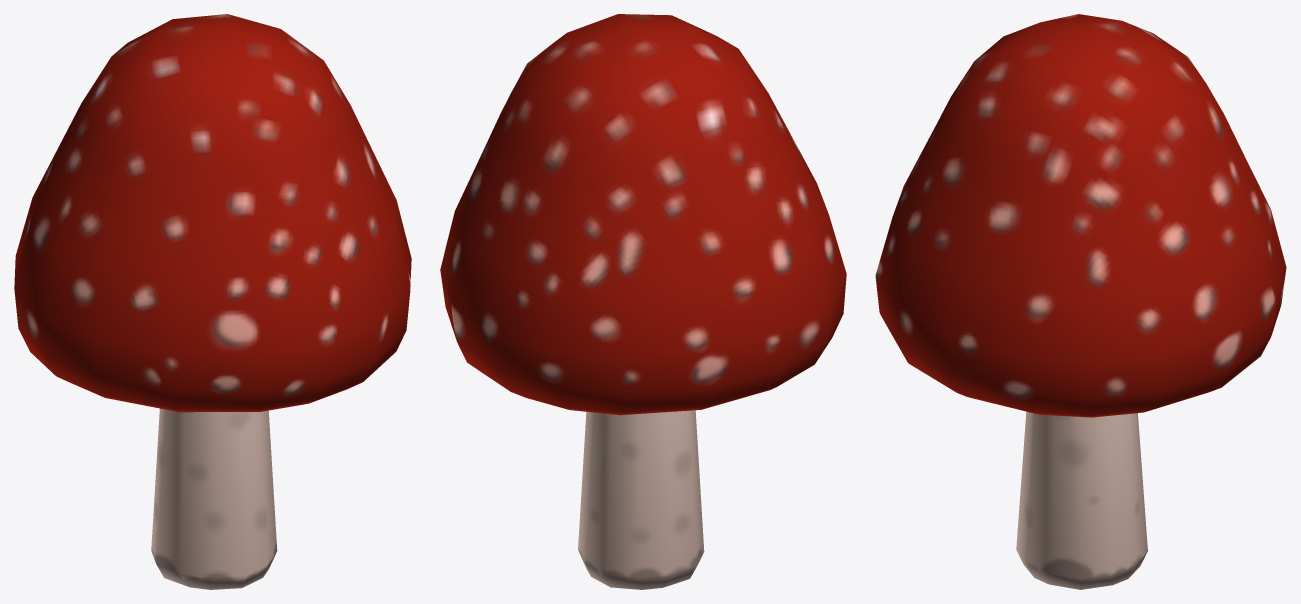
The model's file is Regular Mushroom.glb.
The picture shows the model from 3 angles, left to right: view 1: azimuth 30°, elevation 25°; view 2: azimuth 150°, elevation 25°; view 3: azimuth 270°, elevation 25°; orthographic projection.
Parts seen in each view (by area): view 1: Object_4.001; view 2: Object_4.001; view 3: Object_4.001.
Part boxes in pixels (box(x1,y1,x2,y2)): Object_4.001: box(14, 14, 411, 589); Object_4.001: box(440, 14, 846, 589); Object_4.001: box(875, 14, 1286, 589).
Bounding box in the file's own units: 0.4946 × 0.7135 × 0.4947.
Materials: 1 (1 with a texture image).
